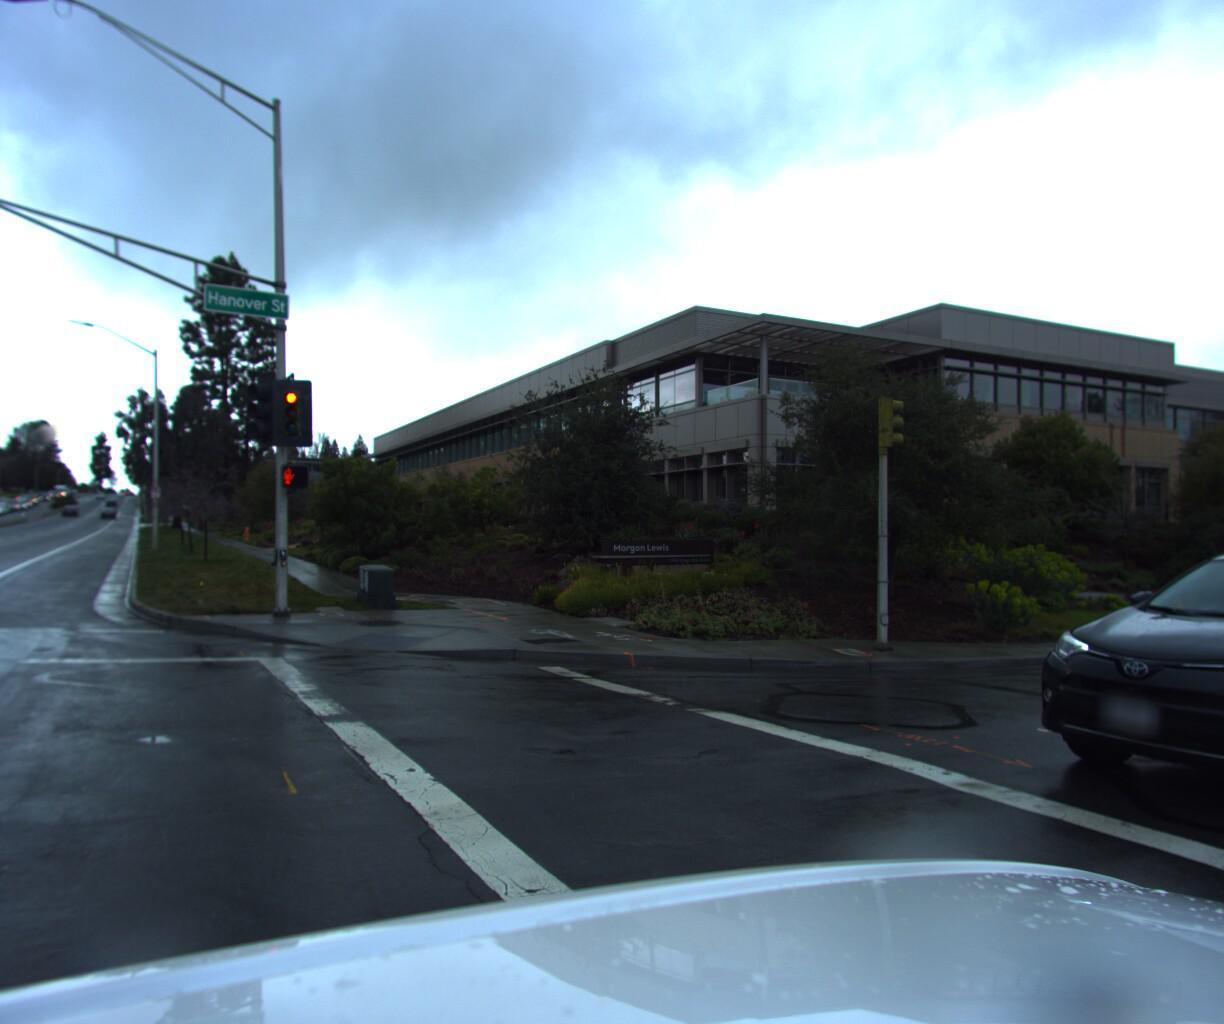car: (983, 524, 1224, 858)
